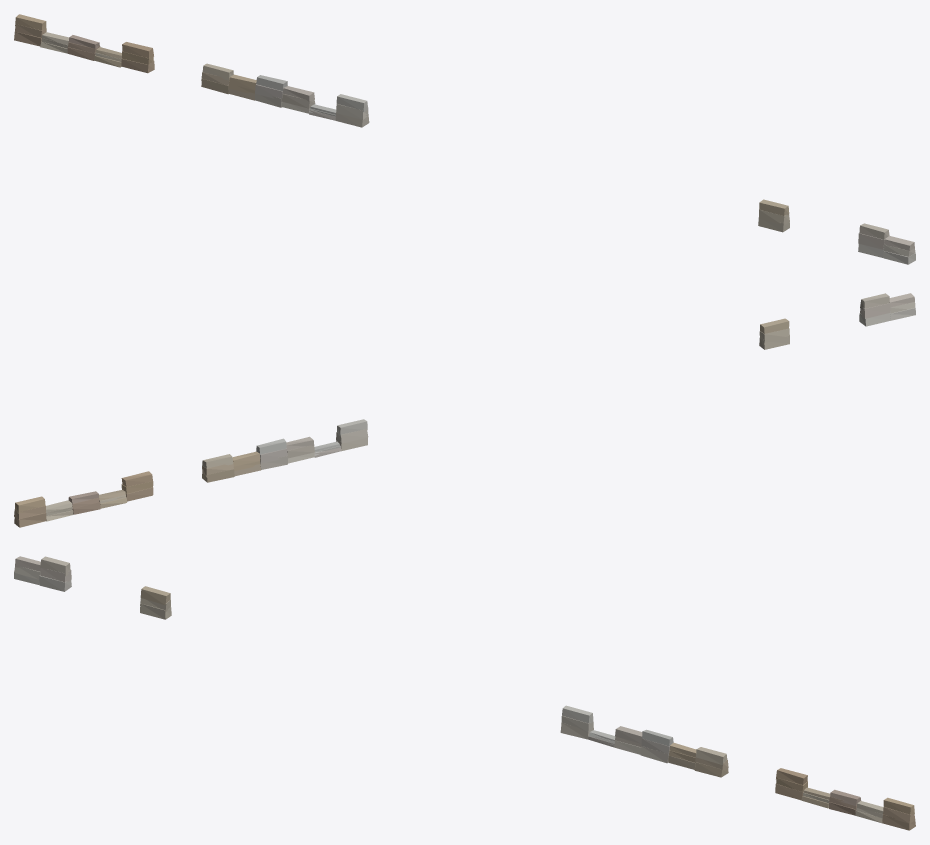
Rendered from farm_9_8_mid.glb.
3 renders of one model, top to bottom at view 1: azimuth 90°, elevation 25°; view 2: azimuth 150°, elevation 25°; view 3: azimuth 270°, elevation 25°, orthographic. The views are drawn at different scales.
Visible parts, largest first — view 1: geometry_0; view 2: geometry_0; view 3: geometry_0.
Part boxes in pixels (x1,y1,x2,y2): geometry_0: [14, 14, 915, 264]; geometry_0: [14, 293, 915, 527]; geometry_0: [14, 556, 915, 830].
Bounding box in the file's own units: 28.72 × 2.15 × 45.01.
